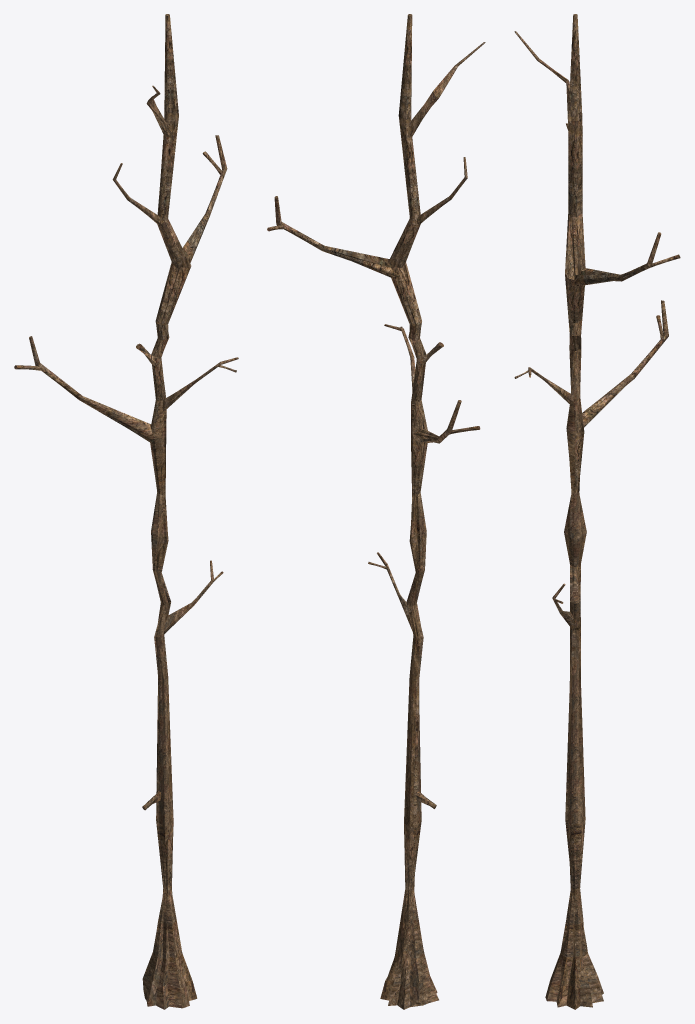
Rendered from trunk5_v2.glb.
3 views of the same model, side by side, from view 1: azimuth 30°, elevation 25°; view 2: azimuth 150°, elevation 25°; view 3: azimuth 270°, elevation 25° (orthographic).
Visible parts, largest first — view 1: trunk5; view 2: trunk5; view 3: trunk5.
Part boxes in pixels (box(x1,y1,x2,y2)): trunk5: box(14, 14, 238, 1009); trunk5: box(267, 14, 485, 1009); trunk5: box(514, 14, 680, 1009).
Size of what is drawn, in the model's own units: 17.72 by 80 by 12.27.
1 material, 1 textured.
